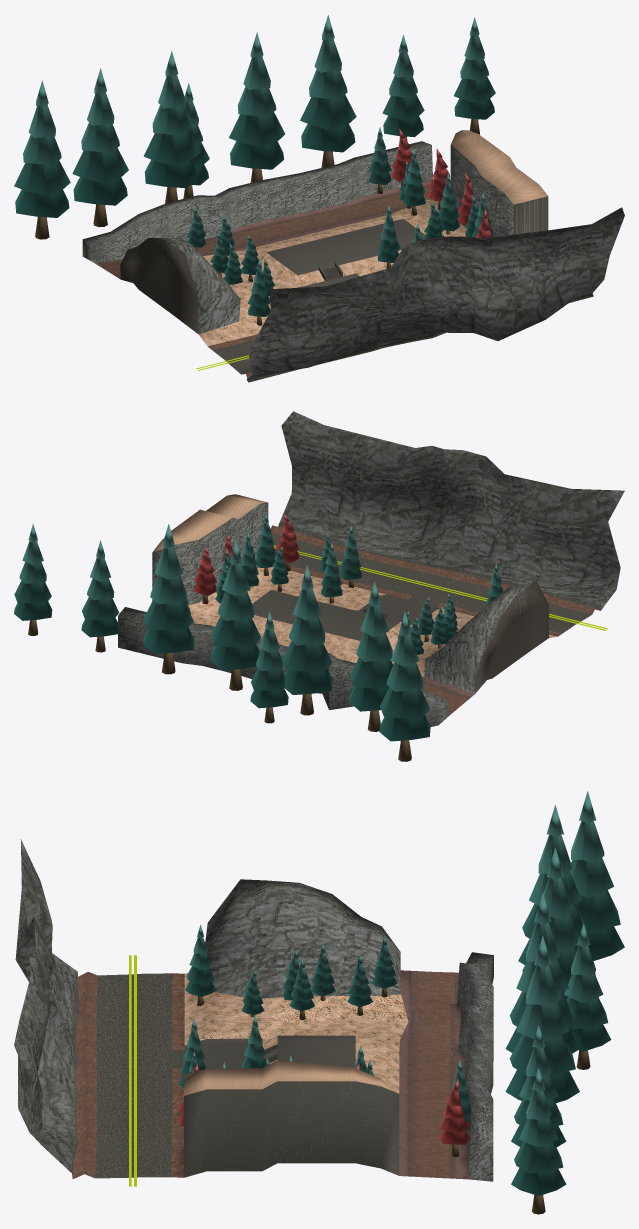
Rendered from area1.glb.
3 renders of one model, top to bottom at view 1: azimuth 30°, elevation 25°; view 2: azimuth 150°, elevation 25°; view 3: azimuth 270°, elevation 25°, orthographic. The views are drawn at different scales.
Parts seen in each view (by area): view 1: terrain, Lowpoly_Pine_01_Green.016, Lowpoly_Pine_01_Green.011, Lowpoly_Pine_01_Green.008, Lowpoly_Pine_01_Green.007, Lowpoly_Pine_01_Green.012, Lowpoly_Pine_01_Green.014, Lowpoly_Pine_01_Green.013, Lowpoly_Pine_01_Green.017, Lowpoly_Pine_01_Green.010, Lowpoly_Pine_01_Green.018, Lowpoly_Pine_01_Green.001 (+4 smaller); view 2: terrain, Lowpoly_Pine_01_Green.016, Lowpoly_Pine_01_Green.008, Lowpoly_Pine_01_Green.007, Lowpoly_Pine_01_Green.012, Lowpoly_Pine_01_Green.011, Lowpoly_Pine_01_Green.014, Lowpoly_Pine_01_Green.013, Lowpoly_Pine_01_Green.017, Lowpoly_Pine_01_Green.004, Lowpoly_Pine_01_Green.006, Lowpoly_Pine_03_Blue.002 (+3 smaller); view 3: terrain, Lowpoly_Pine_01_Green.008, Lowpoly_Pine_01_Green.016, Lowpoly_Pine_01_Green.014, Lowpoly_Pine_01_Green.017, Lowpoly_Pine_01_Green.012, Lowpoly_Pine_01_Green.011, Lowpoly_Pine_01_Green.007, Lowpoly_Pine_01_Green.013, Lowpoly_Pine_01_Green.001, Lowpoly_Pine_03_Blue.005, Lowpoly_Pine_03_Green.006 (+6 smaller).
Part boxes in pixels (x1,y1,x2,y2): terrain: [82, 130, 624, 382]; Lowpoly_Pine_01_Green.016: [14, 80, 70, 239]; Lowpoly_Pine_01_Green.011: [72, 68, 128, 226]; Lowpoly_Pine_01_Green.008: [300, 15, 356, 167]; Lowpoly_Pine_01_Green.007: [143, 50, 199, 203]; Lowpoly_Pine_01_Green.012: [229, 32, 285, 182]; Lowpoly_Pine_01_Green.014: [454, 17, 495, 134]; Lowpoly_Pine_01_Green.013: [382, 34, 424, 141]; Lowpoly_Pine_01_Green.017: [183, 83, 209, 198]; Lowpoly_Pine_01_Green.010: [368, 127, 391, 193]; Lowpoly_Pine_01_Green.018: [402, 148, 425, 215]; Lowpoly_Pine_01_Green.001: [247, 259, 270, 325]; terrain: [118, 411, 624, 726]; Lowpoly_Pine_01_Green.016: [379, 611, 430, 761]; Lowpoly_Pine_01_Green.008: [143, 524, 194, 674]; Lowpoly_Pine_01_Green.007: [282, 564, 332, 715]; Lowpoly_Pine_01_Green.012: [210, 540, 260, 690]; Lowpoly_Pine_01_Green.011: [349, 581, 393, 731]; Lowpoly_Pine_01_Green.014: [14, 523, 52, 635]; Lowpoly_Pine_01_Green.013: [81, 540, 119, 652]; Lowpoly_Pine_01_Green.017: [250, 611, 288, 723]; Lowpoly_Pine_01_Green.004: [340, 525, 361, 587]; Lowpoly_Pine_01_Green.006: [321, 542, 342, 603]; Lowpoly_Pine_03_Blue.002: [193, 547, 217, 604]; terrain: [14, 839, 493, 1186]; Lowpoly_Pine_01_Green.008: [505, 935, 579, 1103]; Lowpoly_Pine_01_Green.016: [570, 791, 624, 975]; Lowpoly_Pine_01_Green.014: [511, 1068, 566, 1214]; Lowpoly_Pine_01_Green.017: [564, 923, 611, 1069]; Lowpoly_Pine_01_Green.012: [505, 892, 579, 1053]; Lowpoly_Pine_01_Green.011: [518, 805, 588, 964]; Lowpoly_Pine_01_Green.007: [522, 848, 579, 999]; Lowpoly_Pine_01_Green.013: [511, 1025, 566, 1147]; Lowpoly_Pine_01_Green.001: [185, 924, 216, 1006]; Lowpoly_Pine_03_Blue.005: [439, 1079, 469, 1157]; Lowpoly_Pine_03_Green.006: [371, 935, 397, 997].
Bounding box in the file's own units: 260 × 94.89 × 241.
14 materials, 14 textured.
